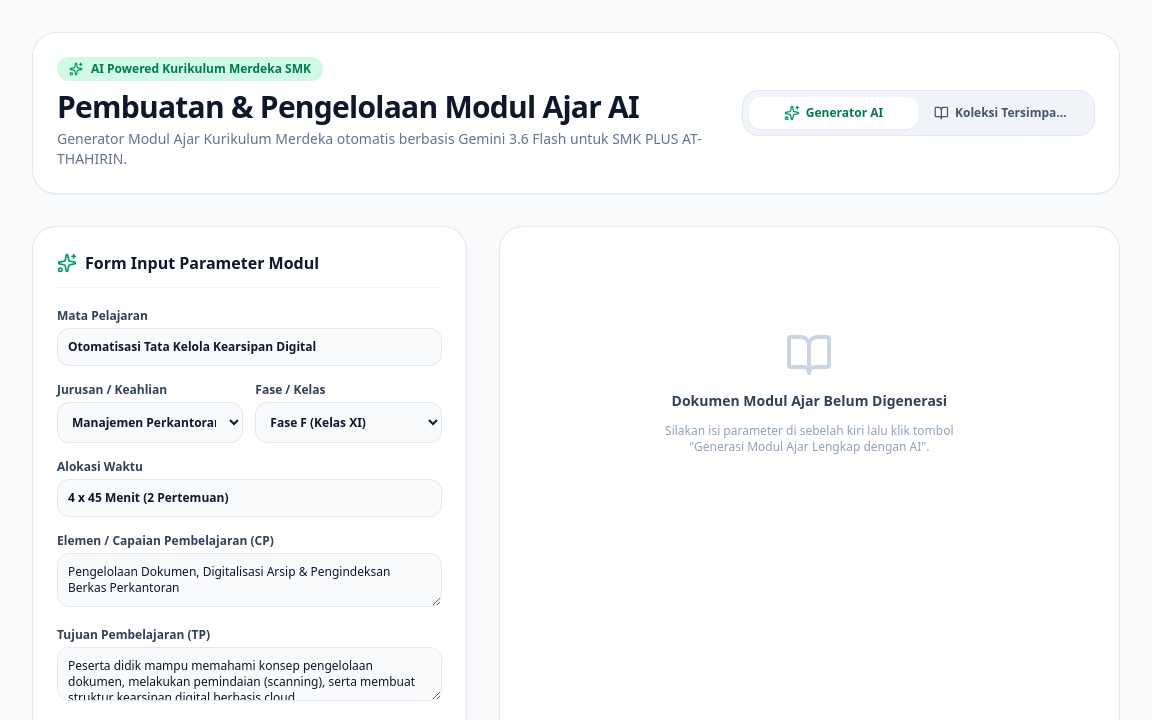
ModulAjarSection › menampilkan koleksi modul tersimpan saat tab koleksi dipilih
The image size is (1152, 720).
Click the button "Koleksi Tersimpan (1)": (1003, 113) [918,97,1088,129]
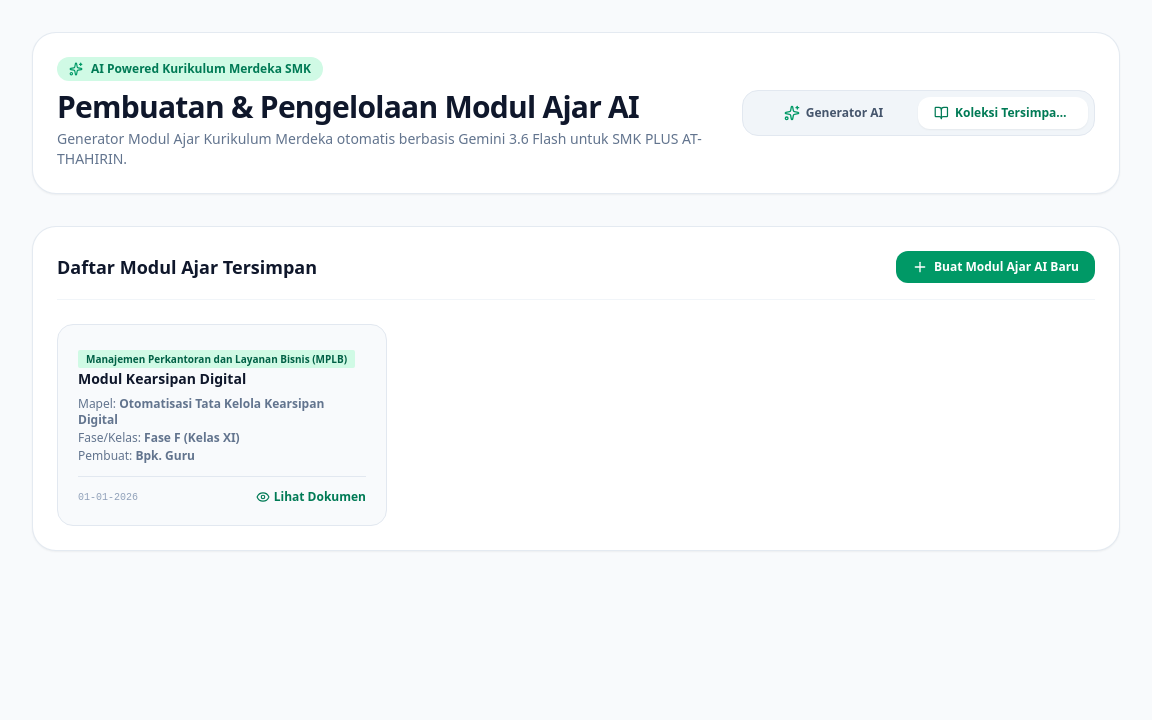
Now the heading "Daftar Modul Ajar Tersimpan" is shown, box [57,253,317,281]
Now the heading "Modul Kearsipan Digital" is shown, box [78,369,246,388]
Now the text "Bpk. Guru" is shown, box [136,447,195,464]
